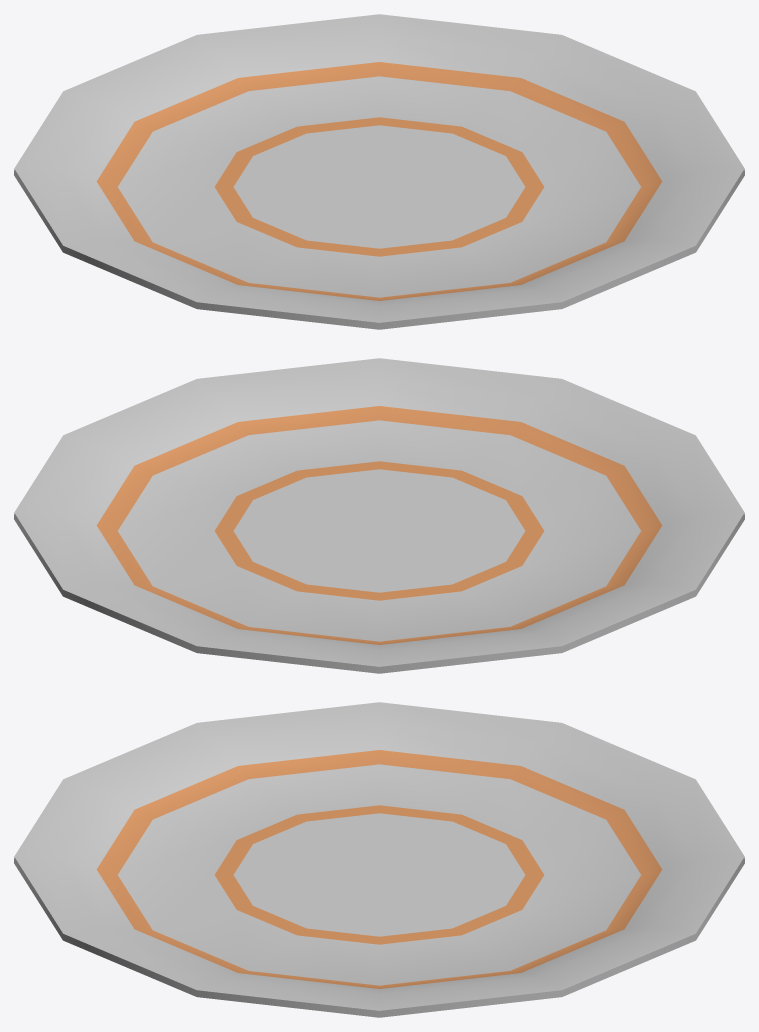
File: Asset014_Packdeitens01_Prato03.fbx
3 renders of one model, top to bottom at view 1: azimuth 30°, elevation 25°; view 2: azimuth 150°, elevation 25°; view 3: azimuth 270°, elevation 25°, orthographic.
Parts seen in each view (by area): view 1: Prato_03; view 2: Prato_03; view 3: Prato_03.
Boxes of the visible parts, x1,y1,x2,y2 form: Prato_03: (14, 14, 744, 329); Prato_03: (14, 358, 744, 673); Prato_03: (14, 702, 744, 1017).
Size of the model in its own units: 77.74 by 2.96 by 77.74.
